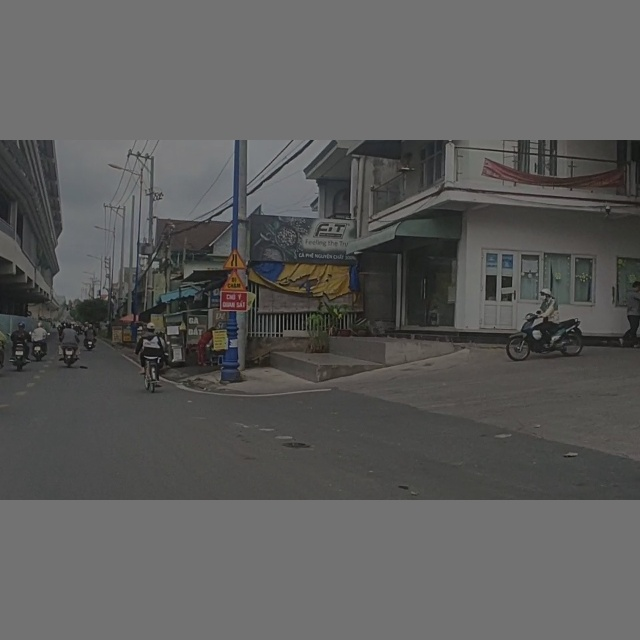W.203b: (223, 249, 247, 269)
W.245a: (221, 269, 247, 291)
